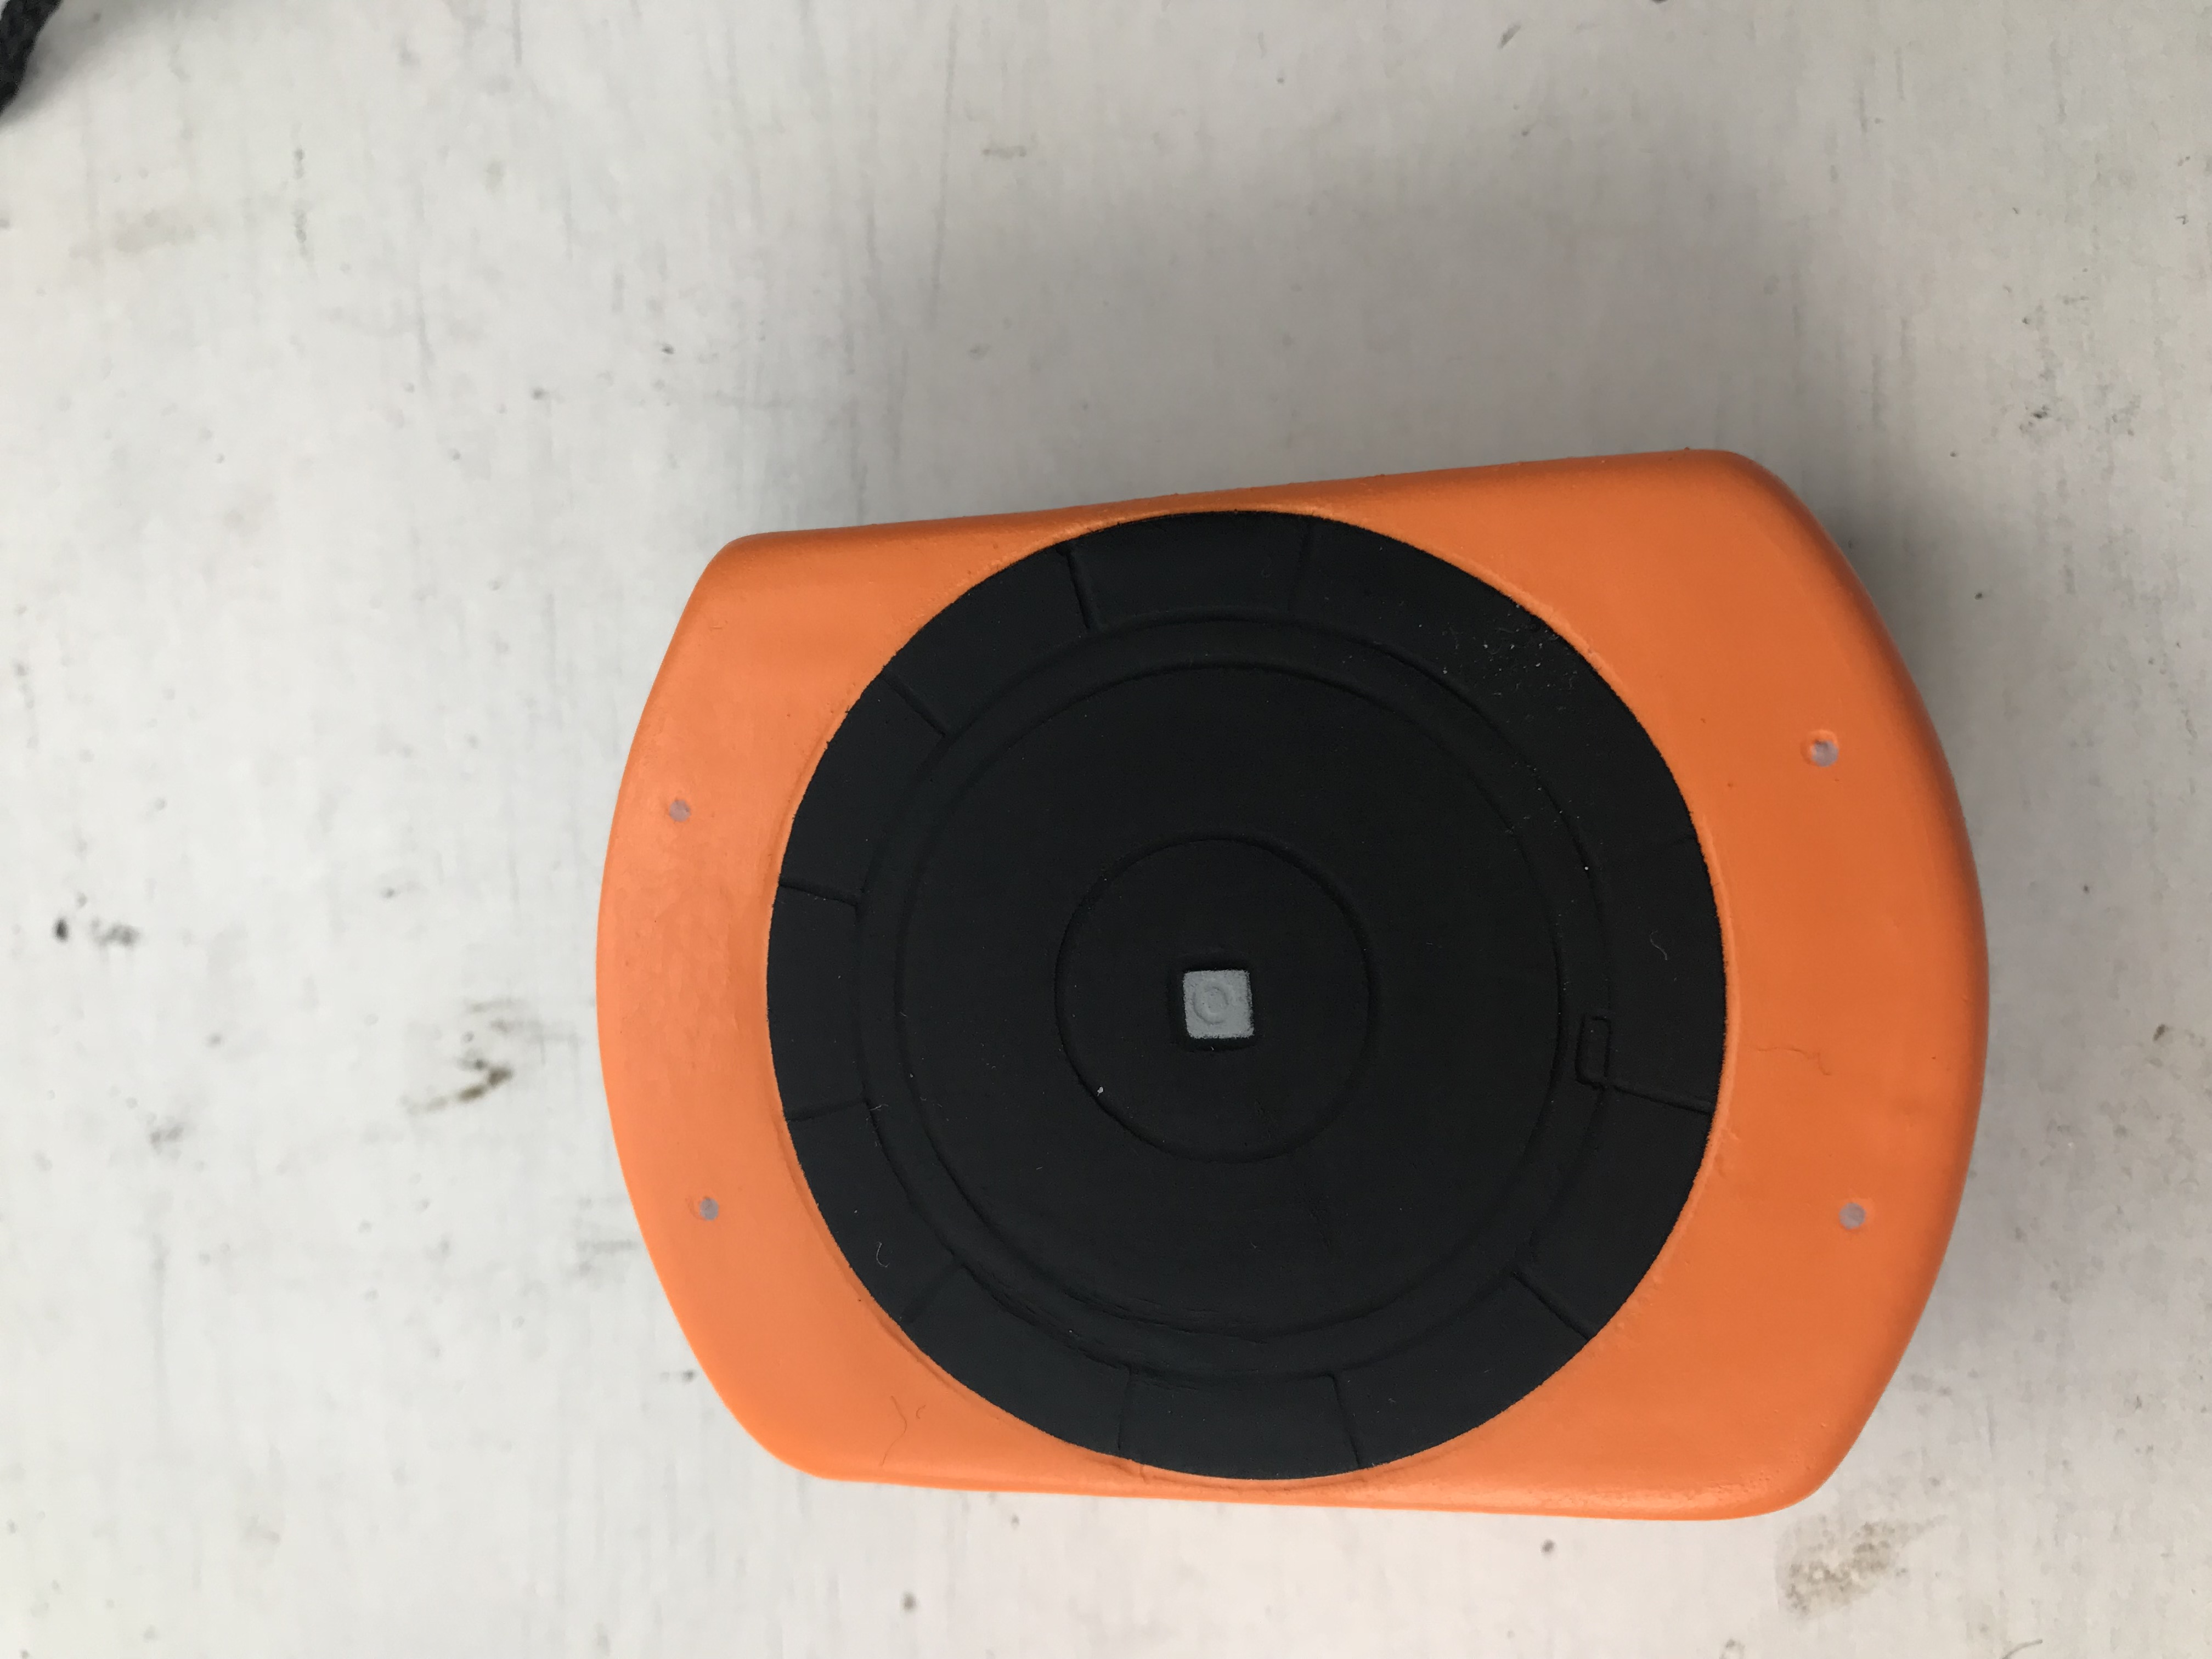amazon_bot: (505, 425, 2062, 1563)
